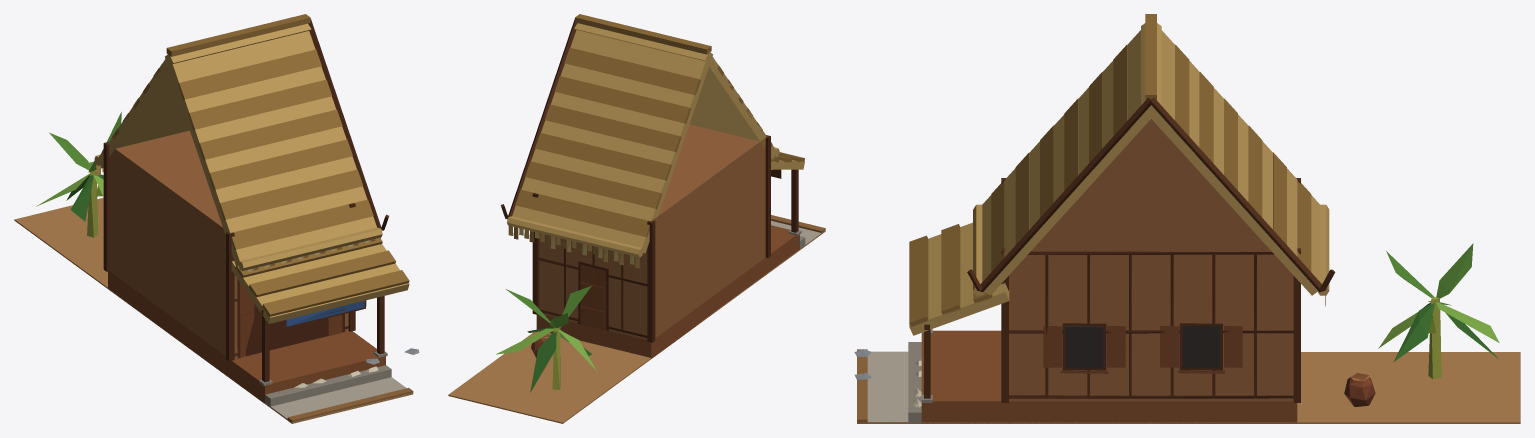
Rendered from bay2_right.glb.
The picture shows the model from 3 angles, left to right: view 1: azimuth 30°, elevation 25°; view 2: azimuth 150°, elevation 25°; view 3: azimuth 270°, elevation 25°; orthographic projection. The views are drawn at different scales.
Parts seen in each view (by area): view 1: body; view 2: body; view 3: body, windows.
Part boxes in pixels (x1,y1,x2,y2): body: (14, 14, 419, 423); body: (448, 14, 825, 423); body: (854, 14, 1520, 423); windows: (1065, 326, 1219, 368).
Size of the model in its own units: 5.04 by 8.98 by 15.96.
